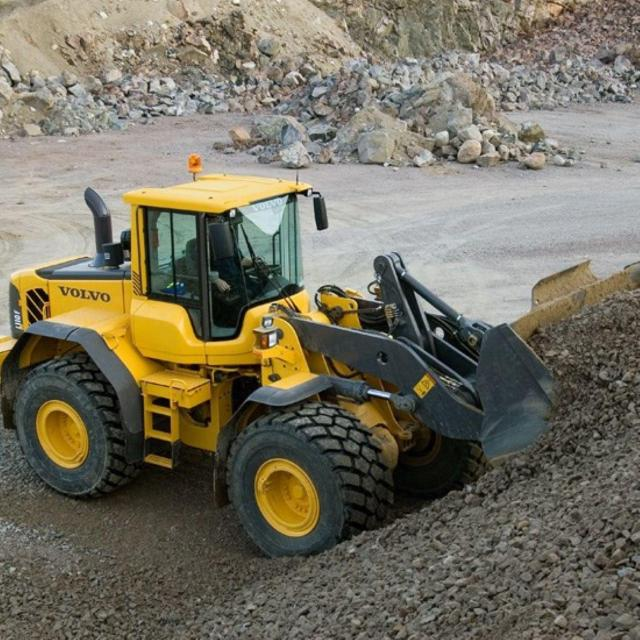buldozerpayloadergrader: (0, 170, 503, 556)
